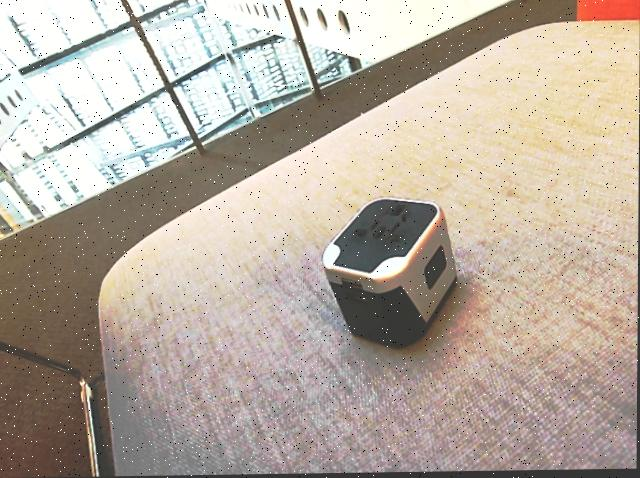adapter: (321, 197, 458, 350)
